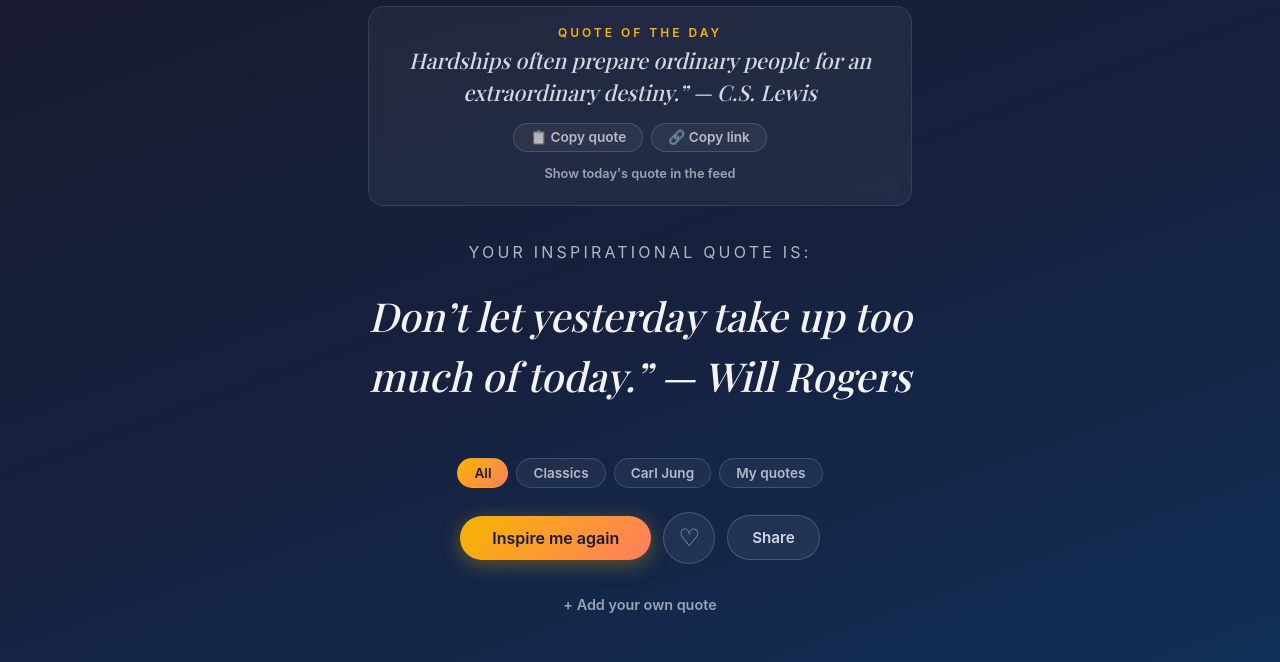
Test: App › saves a quote to favorites via the heart button
Click the button named "add quote to favorites".
click(689, 538)  # box [663, 512, 715, 564]
(page scrolled)
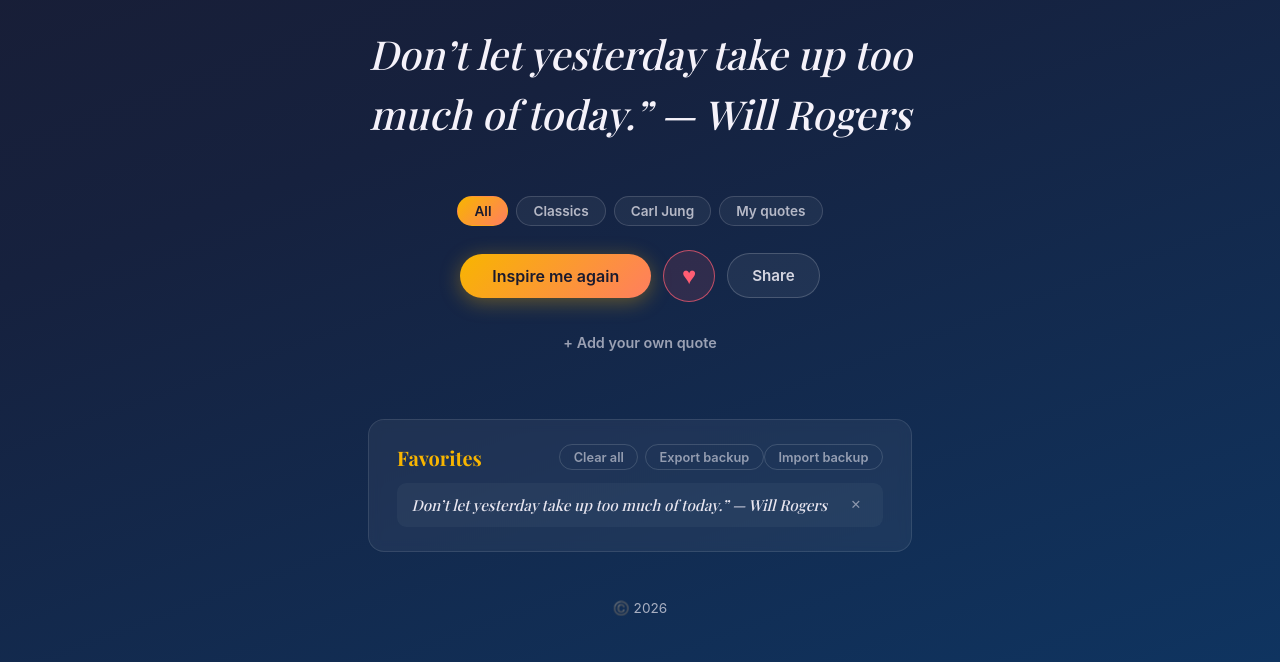
expect the button named "remove quote from favorites" is shown: met, box [663, 250, 715, 302]
expect the text "Don’t let yesterday take up too much of today.” — Will Rogers" is shown: met, box [411, 495, 827, 515]
